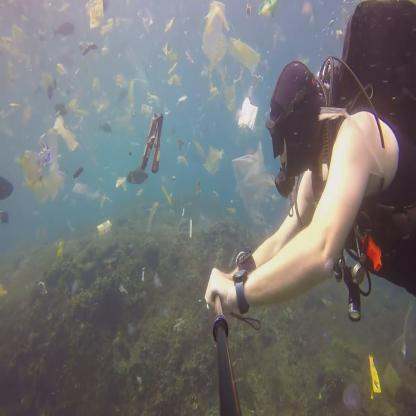Rác: (19, 132, 70, 207), (136, 116, 176, 180), (54, 62, 95, 112), (160, 50, 192, 112), (199, 9, 229, 62), (72, 170, 98, 212), (300, 0, 326, 41), (10, 29, 32, 72), (235, 31, 254, 76), (82, 1, 112, 28), (363, 354, 384, 392), (233, 89, 256, 121), (206, 138, 224, 176), (144, 204, 164, 235), (250, 7, 282, 26), (108, 166, 130, 192), (93, 212, 116, 236), (121, 77, 140, 100), (158, 16, 174, 41), (321, 23, 346, 38), (54, 234, 70, 252)
